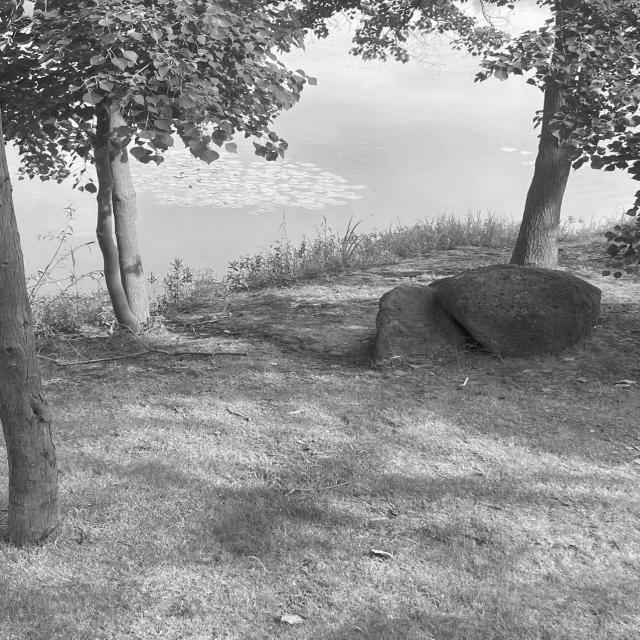Stone: (376, 264, 602, 358)
Tree: (0, 1, 311, 330), (479, 0, 640, 266), (0, 115, 60, 545)
